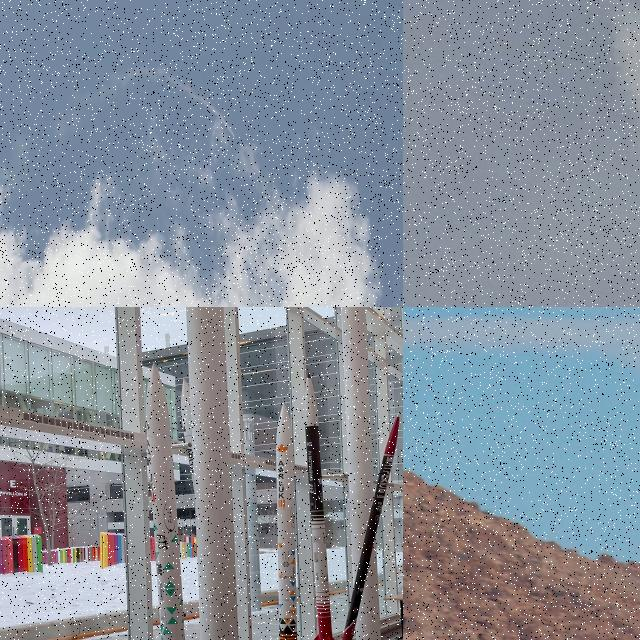Rocket: (181, 377, 239, 640), (342, 412, 400, 640), (146, 362, 185, 640), (305, 372, 335, 640), (277, 401, 297, 640), (235, 137, 236, 140)
